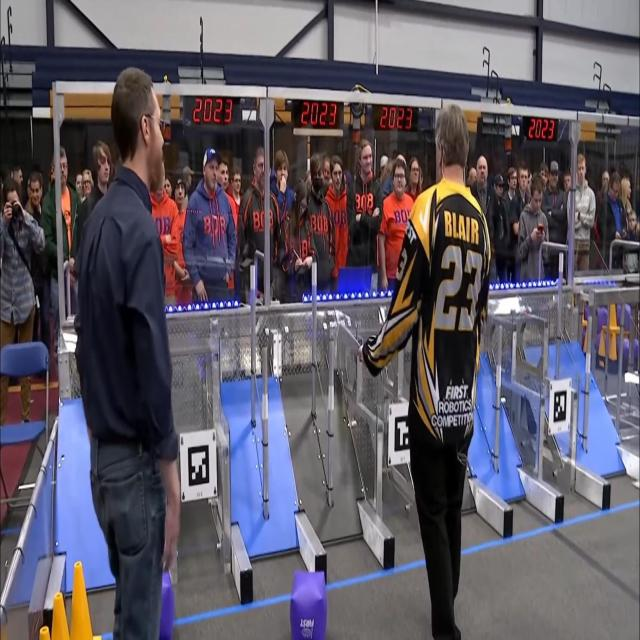frc_cone: (67, 549, 104, 640), (46, 590, 72, 640), (608, 335, 621, 382), (598, 329, 610, 373), (36, 619, 58, 640), (610, 298, 620, 330)
frc_cube: (289, 574, 326, 640), (618, 340, 632, 362), (596, 306, 610, 325), (629, 338, 638, 364), (627, 307, 636, 324), (593, 327, 602, 344)
